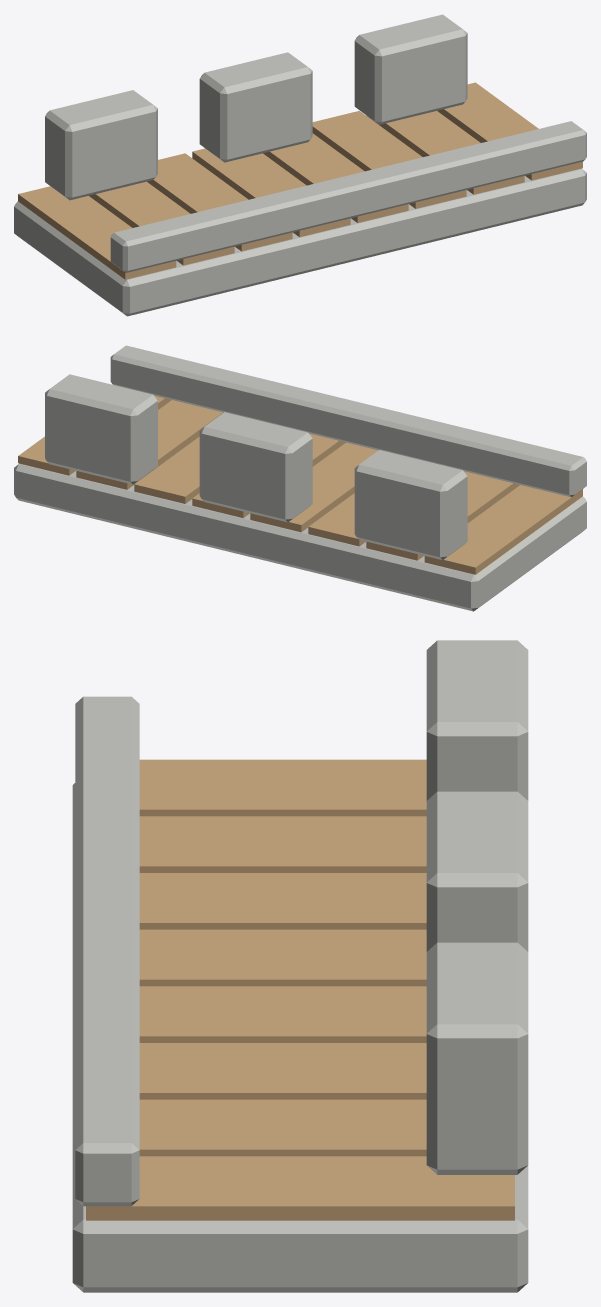
File: wall-walk-with-crenellations.glb
The picture shows the model from 3 angles, top to bottom: view 1: azimuth 30°, elevation 25°; view 2: azimuth 150°, elevation 25°; view 3: azimuth 270°, elevation 25°; orthographic projection. The views are drawn at different scales.
Visible parts, largest first — view 1: wall-walk-crenellated; view 2: wall-walk-crenellated; view 3: wall-walk-crenellated.
Boxes of the visible parts, x1,y1,x2,y2 form: wall-walk-crenellated: [14, 14, 586, 316]; wall-walk-crenellated: [14, 345, 586, 611]; wall-walk-crenellated: [72, 640, 528, 1292].
Bounding box in the file's own units: 4 × 0.98 × 1.7.
